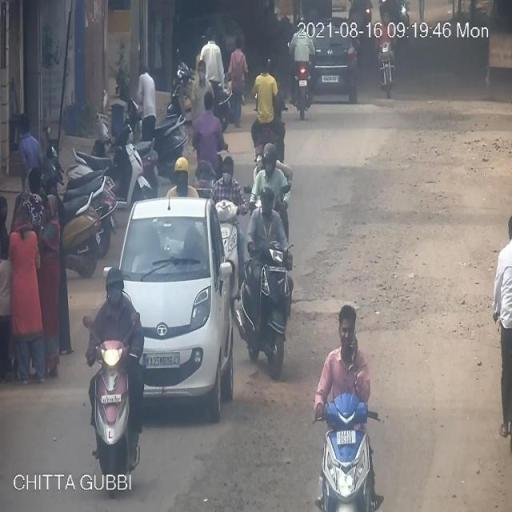using mobile: (342, 316, 362, 357)
